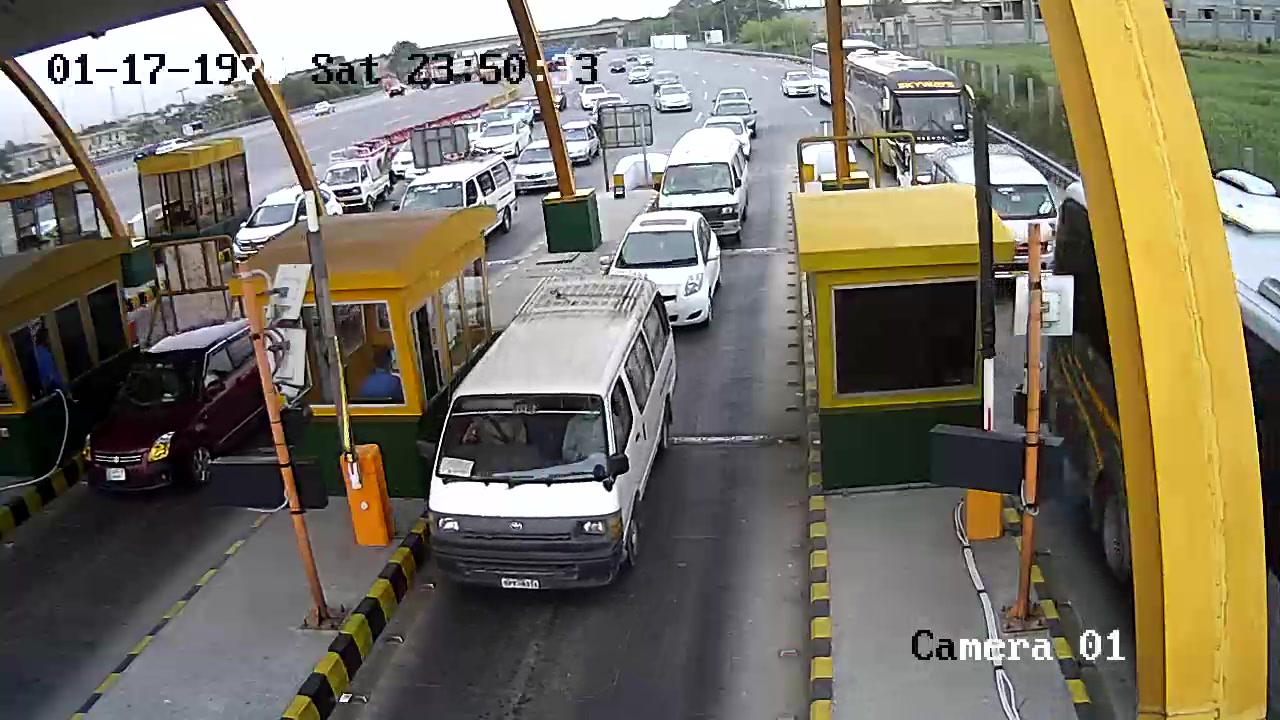F3: (428, 269, 689, 596)
